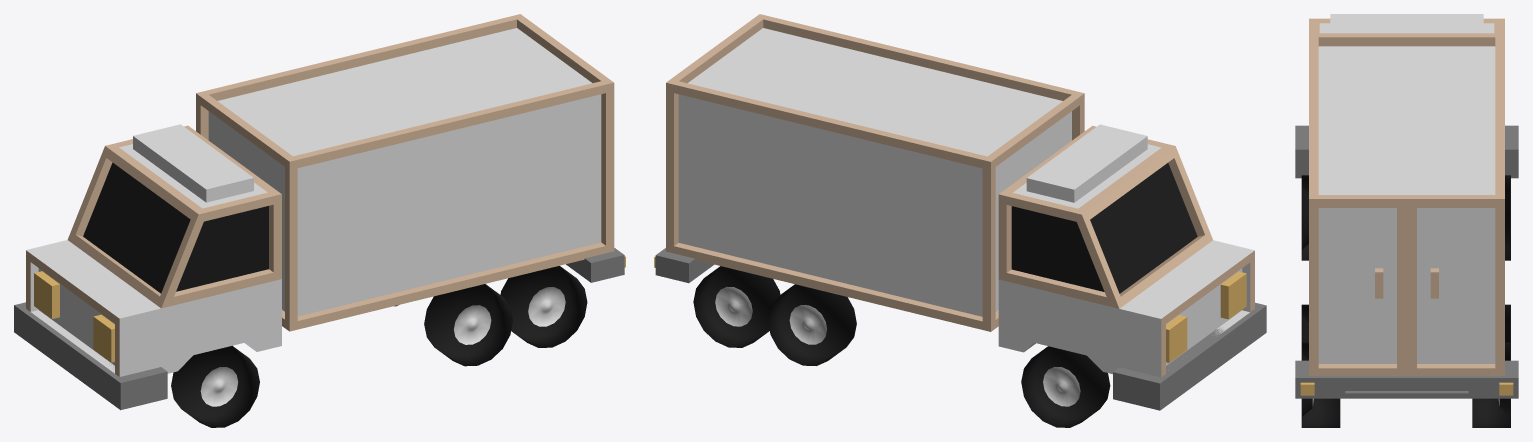
Rendered from Camion.fbx.
The picture shows the model from 3 angles, left to right: view 1: azimuth 30°, elevation 25°; view 2: azimuth 150°, elevation 25°; view 3: azimuth 270°, elevation 25°; orthographic projection. The views are drawn at different scales.
Parts seen in each view (by area): view 1: Cube; view 2: Cube; view 3: Cube.
Part boxes in pixels (x1=…): Cube: x1=14, y1=14, x2=625, y2=427; Cube: x1=654, y1=14, x2=1266, y2=427; Cube: x1=1295, y1=14, x2=1518, y2=427.
Size of the model in its own units: 626 by 290 by 227.
